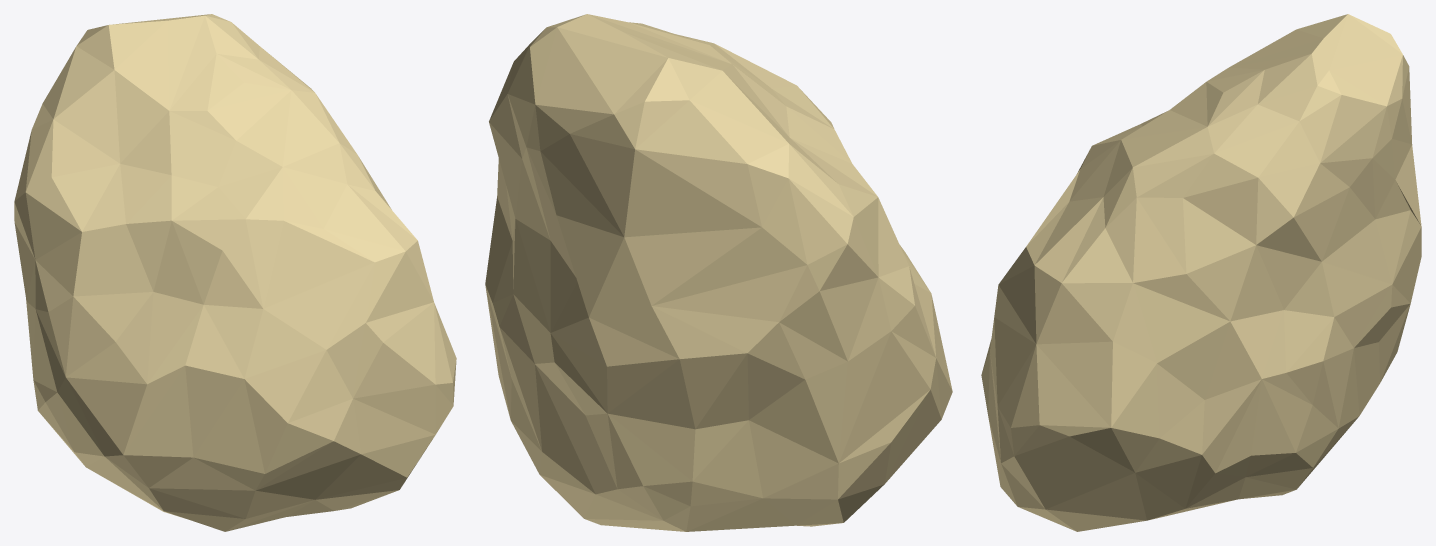
The model's file is Asteroid (86).fbx.
3 views of the same model, side by side, from view 1: azimuth 30°, elevation 25°; view 2: azimuth 150°, elevation 25°; view 3: azimuth 270°, elevation 25° (orthographic). The views are drawn at different scales.
Visible parts, largest first — view 1: Asteroid104; view 2: Asteroid104; view 3: Asteroid104.
Boxes of the visible parts, box(x1,y1,x2,y2) form: Asteroid104: box(14, 14, 456, 531); Asteroid104: box(485, 14, 952, 531); Asteroid104: box(981, 14, 1421, 531).
Size of the model in its own units: 267 by 310 by 269.
